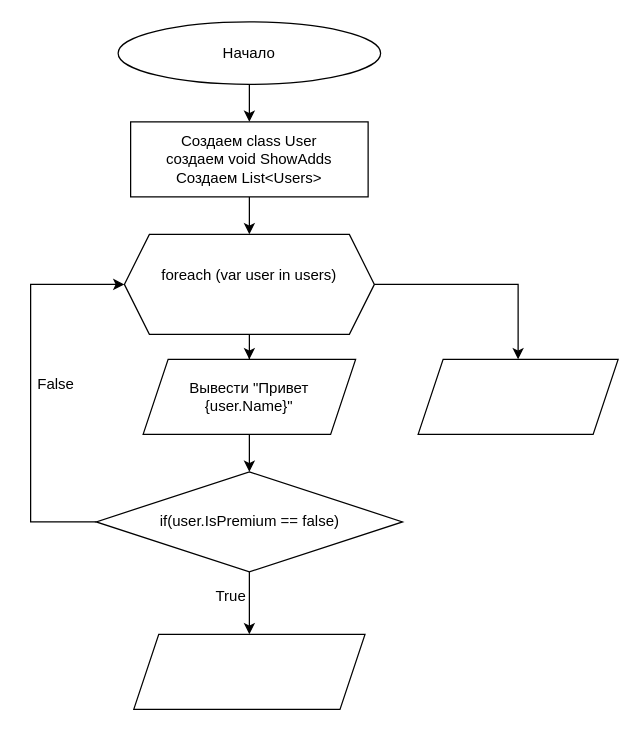
Image size: 640x731. Some labels were removed from this diagram. The shapes that lost their labels are listed below. From the top down, each one's centre as x and y in pixels, then its label:
point (517, 396): Вывести "End"
point (248, 671): Вывести ShowAdds
